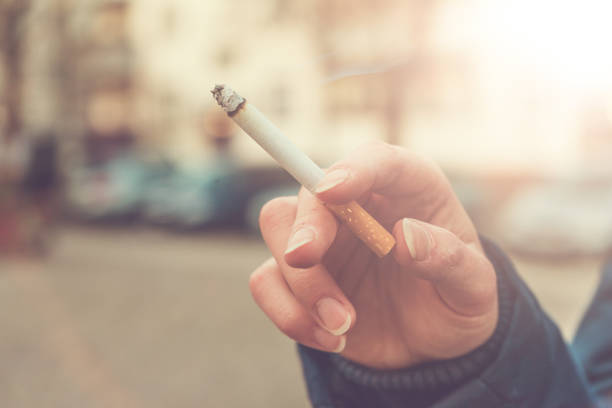cigarette: (211, 79, 394, 261)
